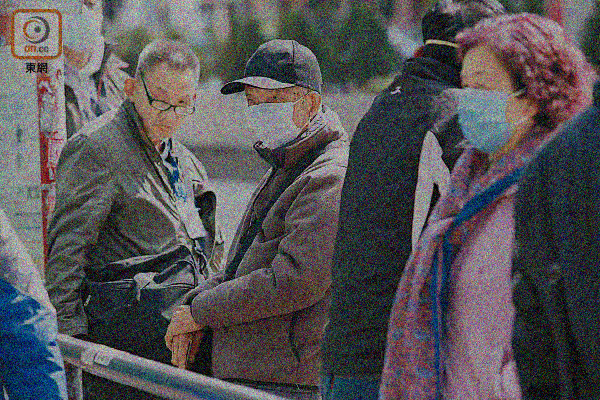with_mask: (458, 68, 527, 157), (243, 85, 308, 147), (59, 1, 105, 55)
without_mask: (133, 83, 195, 140)
